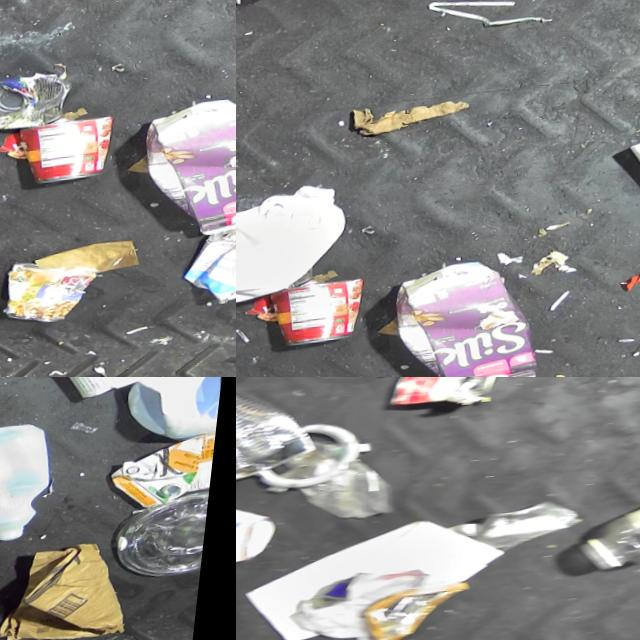can: (296, 563, 488, 640), (236, 377, 333, 506), (22, 117, 127, 190), (272, 279, 377, 352), (13, 256, 114, 330), (0, 70, 84, 135), (389, 377, 513, 412), (236, 495, 291, 571)
milk_jug: (236, 181, 360, 311), (127, 377, 231, 454)
non_white_jug: (389, 259, 558, 377), (139, 97, 236, 246)
plastic_bottle: (580, 475, 640, 579)
